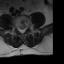CCS_normal: (20, 26, 23, 35)
LFS_normal: (25, 25, 28, 30)
LLS_normal: (23, 26, 25, 33)
RFS_normal: (16, 25, 18, 31)
RLS_normal: (18, 26, 21, 34)
